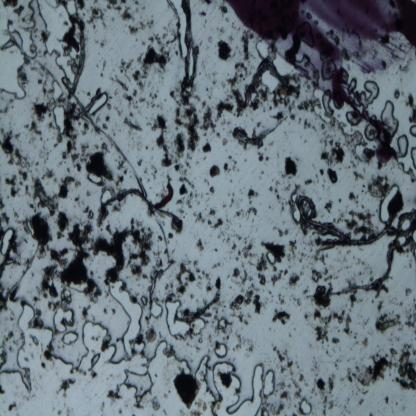Air bubble: (143, 338, 221, 403), (107, 279, 147, 364), (23, 1, 67, 74), (2, 302, 34, 395), (211, 360, 263, 416), (166, 296, 206, 336), (0, 42, 27, 100), (168, 0, 188, 58), (122, 368, 155, 403), (378, 182, 398, 224), (52, 308, 76, 332), (88, 92, 108, 116), (52, 103, 66, 136), (58, 175, 75, 199), (263, 369, 277, 398), (0, 227, 13, 256), (214, 341, 229, 360), (62, 331, 80, 345), (51, 80, 62, 102), (298, 398, 312, 414), (89, 352, 101, 370), (88, 172, 102, 186), (100, 189, 113, 204), (409, 146, 416, 170), (266, 251, 277, 266), (408, 123, 416, 138), (31, 335, 39, 347)
Background material: (94, 226, 130, 282), (60, 221, 90, 287), (150, 114, 174, 168), (128, 217, 153, 267), (392, 341, 416, 392), (143, 34, 171, 72), (357, 357, 393, 385), (176, 373, 203, 409), (32, 178, 58, 215), (28, 212, 53, 246), (346, 208, 376, 236), (84, 152, 113, 180), (40, 264, 61, 298), (227, 61, 253, 88), (186, 106, 201, 152), (321, 139, 346, 166), (312, 309, 332, 342), (286, 181, 301, 224), (168, 85, 193, 110), (374, 313, 403, 334), (62, 22, 81, 54), (237, 27, 254, 61), (261, 241, 286, 264), (313, 282, 333, 310), (368, 173, 390, 198), (201, 101, 217, 135), (233, 332, 255, 355), (175, 262, 196, 286), (12, 208, 31, 234), (49, 247, 70, 268), (404, 297, 416, 331), (84, 278, 101, 302), (0, 127, 14, 156), (269, 185, 284, 212), (272, 307, 294, 325), (178, 153, 194, 177), (173, 132, 186, 161), (318, 122, 338, 140), (216, 40, 233, 61), (56, 377, 76, 394), (217, 368, 233, 389), (107, 382, 121, 405), (124, 116, 144, 132), (132, 68, 147, 89), (31, 101, 48, 119), (179, 175, 198, 191), (216, 315, 232, 334), (125, 89, 145, 104), (296, 251, 314, 267), (173, 106, 185, 130), (15, 148, 30, 167), (255, 252, 269, 272), (285, 156, 298, 177), (118, 57, 135, 73), (122, 6, 138, 23), (326, 168, 341, 186), (271, 344, 285, 363), (276, 378, 298, 390), (298, 98, 320, 110), (37, 72, 48, 96), (217, 101, 233, 117), (86, 9, 103, 24), (241, 241, 256, 258), (230, 294, 245, 311), (60, 289, 72, 310), (34, 307, 45, 329), (288, 271, 300, 291), (302, 118, 319, 132), (57, 212, 69, 231), (0, 340, 8, 368), (195, 266, 209, 282), (130, 263, 143, 280), (206, 76, 216, 98), (344, 314, 353, 338), (288, 240, 300, 258), (63, 140, 74, 159), (55, 403, 71, 416), (270, 270, 283, 286), (289, 292, 302, 308), (105, 0, 122, 12), (71, 152, 81, 172), (332, 310, 346, 324), (16, 167, 29, 182), (30, 121, 43, 136), (218, 228, 230, 244), (348, 190, 360, 206), (171, 24, 180, 45), (254, 294, 263, 315), (322, 267, 335, 281), (81, 144, 91, 162), (42, 348, 54, 363), (246, 204, 258, 219), (364, 148, 375, 164), (53, 132, 64, 148), (247, 188, 258, 204), (13, 5, 26, 18), (41, 168, 55, 180), (46, 300, 60, 312), (346, 365, 354, 386), (311, 269, 323, 283), (327, 375, 335, 396), (165, 279, 176, 294), (0, 211, 11, 226), (302, 285, 313, 300), (194, 237, 205, 252), (316, 376, 326, 392), (187, 191, 195, 211), (9, 185, 21, 198), (117, 77, 128, 91), (84, 204, 94, 219), (100, 336, 109, 352), (97, 396, 105, 414), (314, 252, 326, 264), (194, 212, 206, 224), (176, 285, 188, 297), (315, 238, 331, 247), (4, 175, 17, 186), (390, 295, 403, 306), (235, 315, 248, 326), (352, 170, 366, 180), (348, 294, 357, 309), (257, 272, 266, 287), (224, 89, 235, 101), (0, 102, 11, 114), (405, 258, 416, 270), (40, 30, 50, 43), (278, 291, 286, 307), (152, 396, 160, 412), (117, 157, 126, 171), (325, 200, 334, 214), (274, 403, 285, 414), (76, 0, 87, 11), (128, 25, 139, 36), (366, 268, 374, 283), (361, 314, 371, 326), (377, 299, 385, 314), (246, 289, 253, 306), (322, 395, 328, 414), (38, 245, 46, 259), (136, 333, 144, 347), (214, 276, 222, 290), (99, 143, 110, 153), (8, 401, 18, 412), (138, 20, 148, 31), (218, 4, 229, 14), (389, 346, 399, 357), (202, 143, 212, 154), (7, 156, 16, 168), (179, 183, 188, 195), (242, 270, 249, 285), (24, 184, 32, 197), (277, 228, 290, 236), (223, 162, 231, 175), (330, 336, 340, 346), (148, 90, 158, 100), (235, 208, 245, 218), (294, 387, 303, 398), (279, 392, 290, 401), (99, 40, 108, 51), (361, 336, 368, 350), (297, 372, 305, 384), (145, 17, 153, 29), (38, 147, 46, 159), (256, 150, 264, 162), (2, 1, 18, 7), (233, 267, 241, 279), (333, 356, 340, 369), (82, 307, 89, 320), (213, 219, 223, 228), (55, 231, 65, 240), (207, 208, 216, 218), (116, 175, 124, 186), (192, 188, 200, 199), (200, 178, 211, 186), (82, 124, 90, 135), (205, 282, 213, 293), (152, 165, 158, 179), (404, 288, 413, 297), (164, 175, 174, 183), (232, 159, 240, 169), (328, 400, 336, 410), (304, 311, 312, 321), (304, 178, 314, 186), (8, 328, 14, 341), (101, 121, 108, 132), (174, 162, 181, 173), (46, 122, 54, 131), (206, 34, 214, 43), (73, 179, 82, 187), (384, 394, 390, 406), (200, 0, 212, 6), (32, 296, 42, 303), (286, 358, 293, 368), (290, 112, 297, 122), (212, 263, 222, 270), (198, 11, 208, 18), (0, 197, 5, 211), (80, 370, 88, 378), (102, 57, 106, 73), (234, 252, 242, 260), (110, 306, 118, 314), (219, 26, 226, 35), (90, 335, 100, 341), (134, 403, 144, 409), (64, 167, 72, 174), (221, 138, 228, 146), (318, 168, 324, 177), (232, 242, 238, 251), (235, 234, 242, 241), (280, 365, 286, 373), (106, 116, 112, 124), (58, 160, 64, 168), (136, 158, 142, 166), (210, 186, 215, 195), (15, 133, 22, 139), (40, 362, 46, 369), (167, 233, 173, 240), (123, 169, 129, 176), (358, 398, 364, 405), (76, 195, 81, 203), (99, 70, 104, 78), (92, 372, 97, 380), (198, 337, 204, 343), (63, 20, 69, 26), (230, 198, 233, 209), (284, 269, 288, 277), (222, 82, 226, 90), (280, 173, 286, 178), (260, 170, 266, 175), (304, 137, 309, 143), (121, 0, 127, 5), (228, 156, 234, 161), (215, 246, 219, 252), (266, 155, 269, 163), (103, 22, 107, 28), (103, 308, 107, 314), (196, 346, 200, 352), (217, 134, 222, 138)
Cellulose filter fibre: (72, 94, 146, 197), (297, 195, 410, 251), (6, 18, 65, 98), (328, 242, 403, 298), (95, 189, 185, 233), (235, 61, 294, 108), (4, 243, 38, 303), (229, 116, 285, 148), (180, 0, 199, 85), (173, 293, 220, 325), (67, 29, 87, 100), (150, 206, 171, 264), (67, 89, 102, 120), (358, 77, 380, 110), (382, 99, 399, 136), (321, 88, 336, 118), (393, 135, 410, 159), (348, 75, 358, 93), (394, 90, 400, 101)
Diatom: (145, 327, 157, 343), (209, 164, 220, 178)
Pen: (226, 0, 416, 75)
